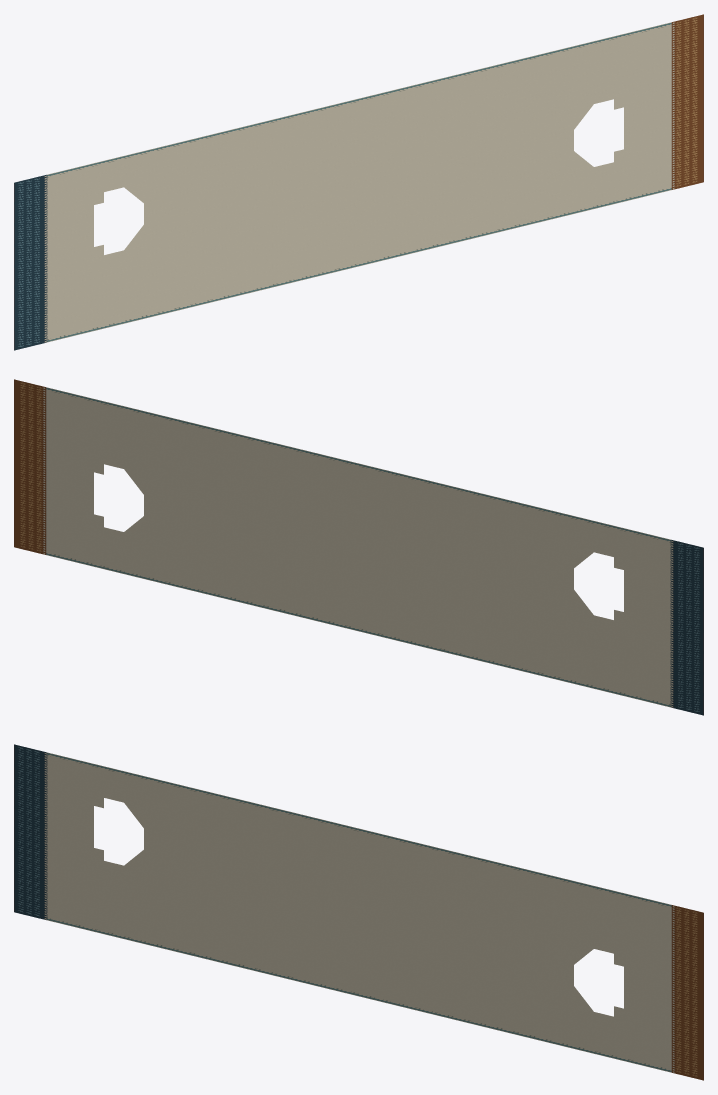
Rendered from cotton.obj.
3 views of the same model, one above another, from view 1: azimuth 30°, elevation 25°; view 2: azimuth 150°, elevation 25°; view 3: azimuth 330°, elevation 25° (orthographic).
Size of the model in its own units: 0.86 by 0.2 by 0.
Materials: 1 (1 with a texture image).
